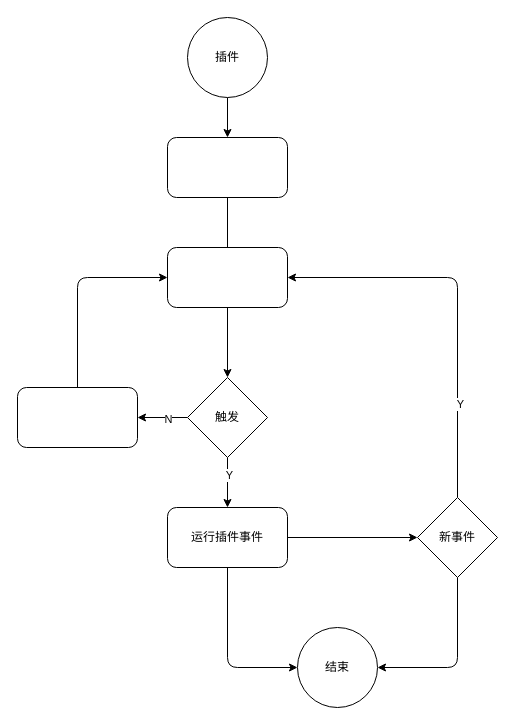
Some shapes in this 515 by 725 pixel diagram are drawn without their labels. The centre of each missing label's shape, as x and y in pixels:
"实例化" goes at pixel 227 167.
"插件事件收集" goes at pixel 227 277.
"等待执行" goes at pixel 77 417.
